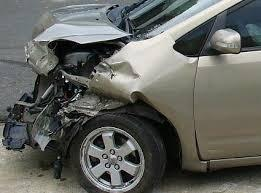bonnet-dent: (33, 0, 120, 58)
fender-dent: (83, 60, 162, 119)
